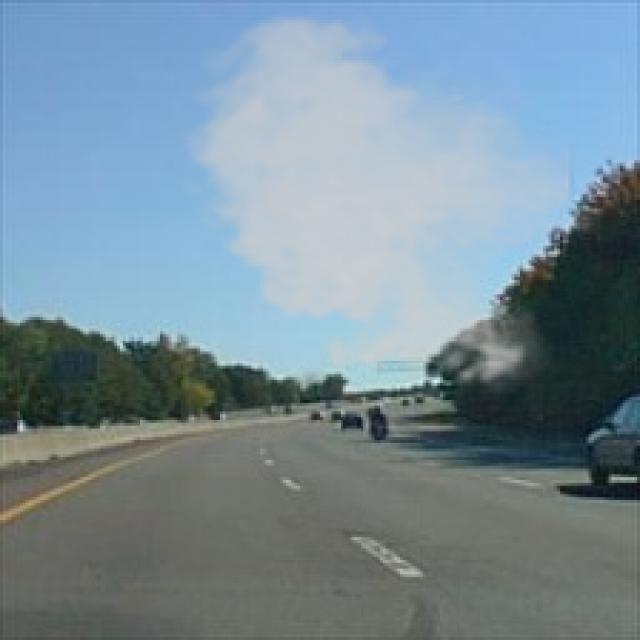Smoke: (172, 6, 574, 397)
